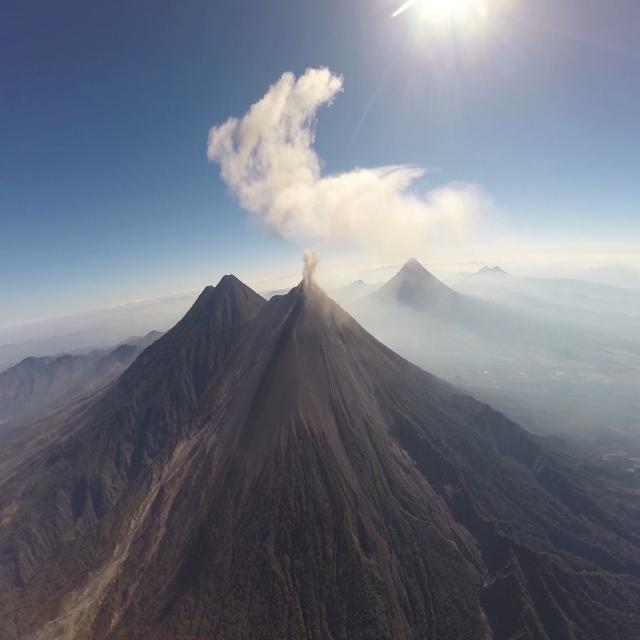Plume: (210, 56, 482, 268), (302, 248, 321, 286)
Summit: (288, 270, 328, 300)
